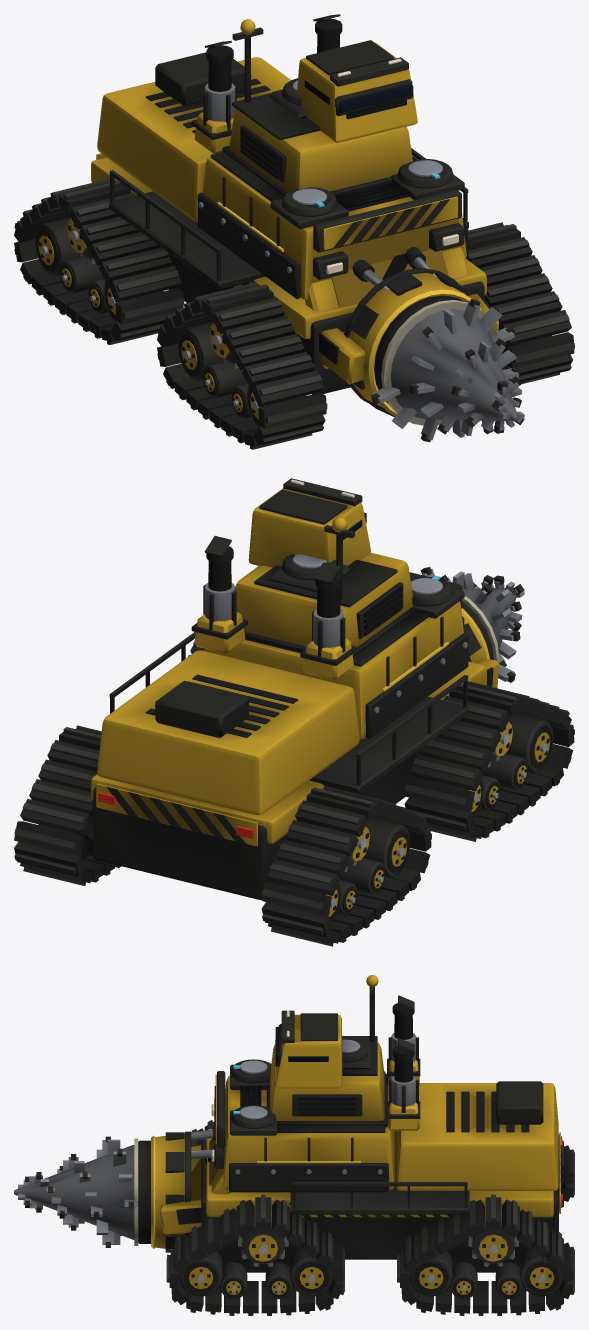
Rendered from ex_crawler_6.glb.
3 renders of one model, top to bottom at view 1: azimuth 30°, elevation 25°; view 2: azimuth 150°, elevation 25°; view 3: azimuth 270°, elevation 25°, orthographic. The views are drawn at different scales.
Parts seen in each view (by area): view 1: body, drill, wheel_17, wheel_7, wheel_8, wheel_18; view 2: body, drill, wheel_6, wheel_16, wheel_9, wheel_19; view 3: body, drill, wheel_12, wheel_2, wheel_0, wheel_1, wheel_11, wheel_10, wheel_4, wheel_14, wheel_13, wheel_3.
Boxes of the visible parts, x1,y1,x2,y2 form: body: (14,14,574,449); drill: (371,295,524,442); wheel_17: (35,217,80,276); wheel_7: (178,321,223,380); wheel_8: (203,361,246,398); wheel_18: (60,257,103,293); body: (14,478,574,946); drill: (420,567,524,682); wheel_6: (506,713,553,772); wheel_16: (363,817,410,877); wheel_9: (481,753,528,790); wheel_19: (338,858,385,894); body: (151,975,574,1315); drill: (14,1136,150,1247); wheel_12: (520,1248,563,1296); wheel_2: (290,1248,333,1296); wheel_0: (238,1216,288,1266); wheel_1: (179,1251,222,1296); wheel_11: (409,1251,452,1296); wheel_10: (468,1216,518,1266); wheel_4: (220,1262,247,1299); wheel_14: (450,1262,477,1299); wheel_13: (495,1262,522,1299); wheel_3: (265,1262,292,1299).
Bounding box in the file's own units: 7.56 × 7.6 × 14.75.
